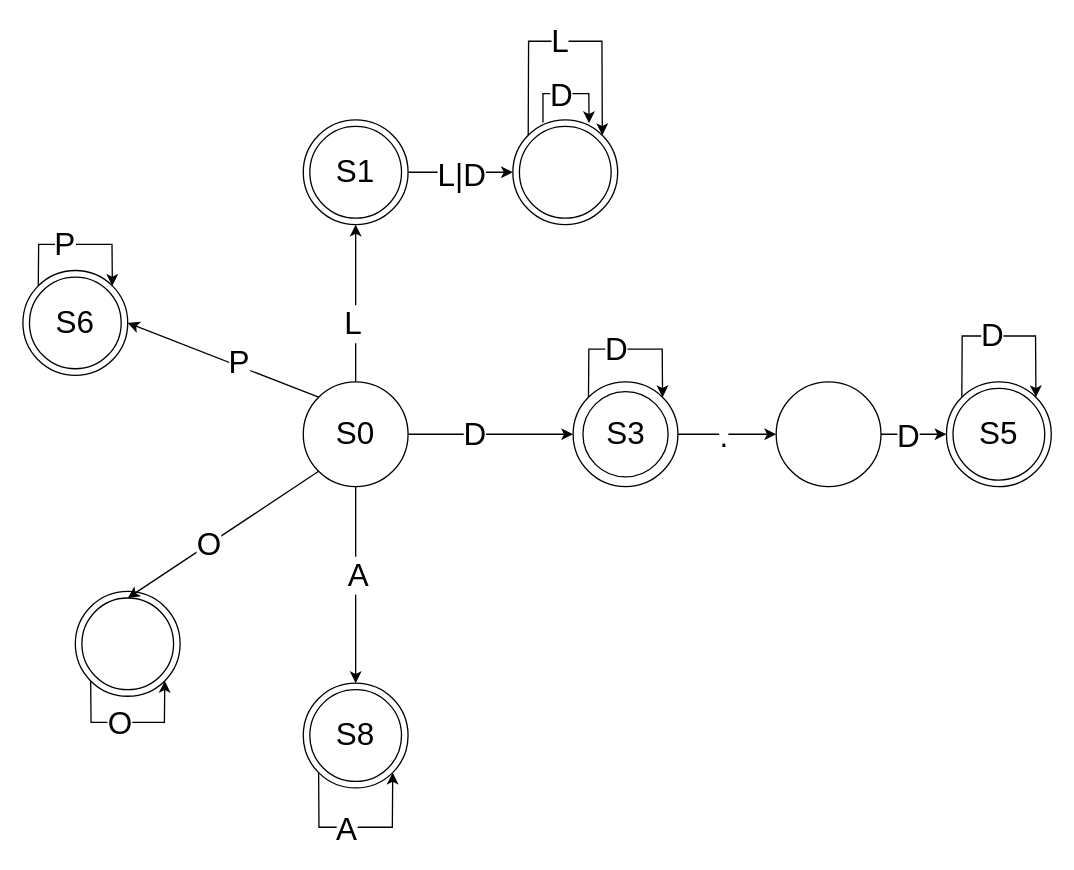
The diagram is 1074 pixels wide and 870 high, and some of its shapes have lost their labels. Each missing label, with the centre of its shape:
S2: (564,171)
S4: (828,434)
S7: (127,643)
